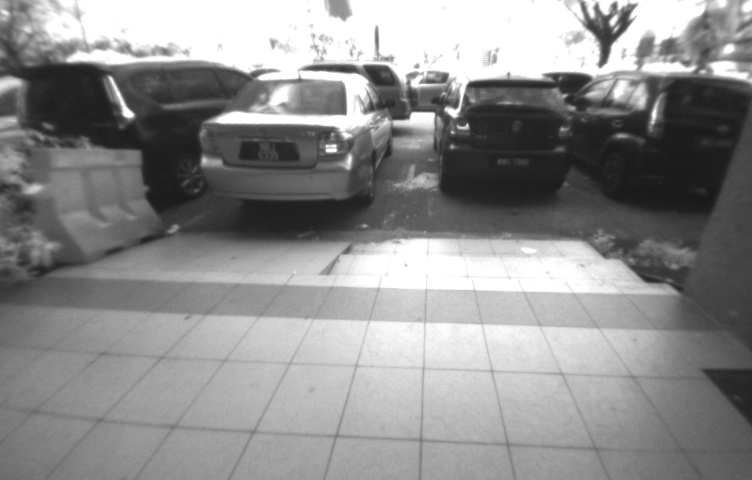down_steps: (328, 222, 669, 309)
mixed_gradient: (272, 222, 383, 308)
